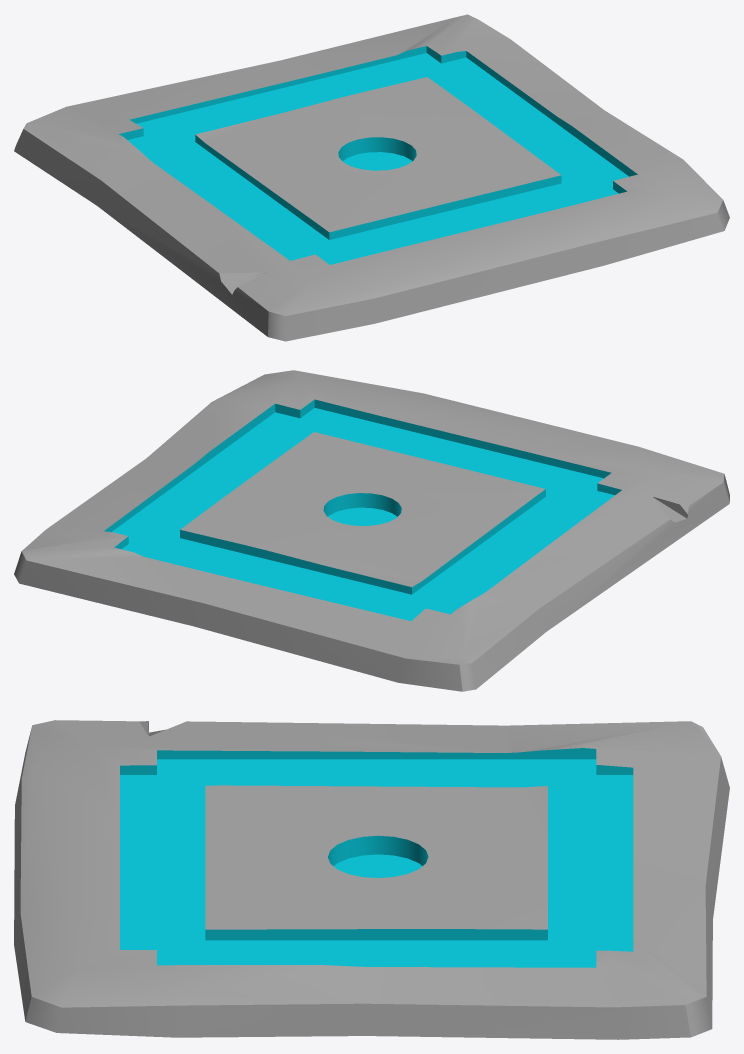
Rendered from dalle21.fbx.
The picture shows the model from 3 angles, top to bottom: view 1: azimuth 30°, elevation 25°; view 2: azimuth 150°, elevation 25°; view 3: azimuth 270°, elevation 25°; orthographic projection. The views are drawn at different scales.
Visible parts, largest first — view 1: pCube4; view 2: pCube4; view 3: pCube4.
Boxes of the visible parts, box(x1,y1,x2,y2) form: pCube4: box(14, 14, 729, 341); pCube4: box(14, 370, 729, 691); pCube4: box(14, 720, 729, 1039).
Size of the model in its own units: 6.99 by 0.4395 by 7.18.
